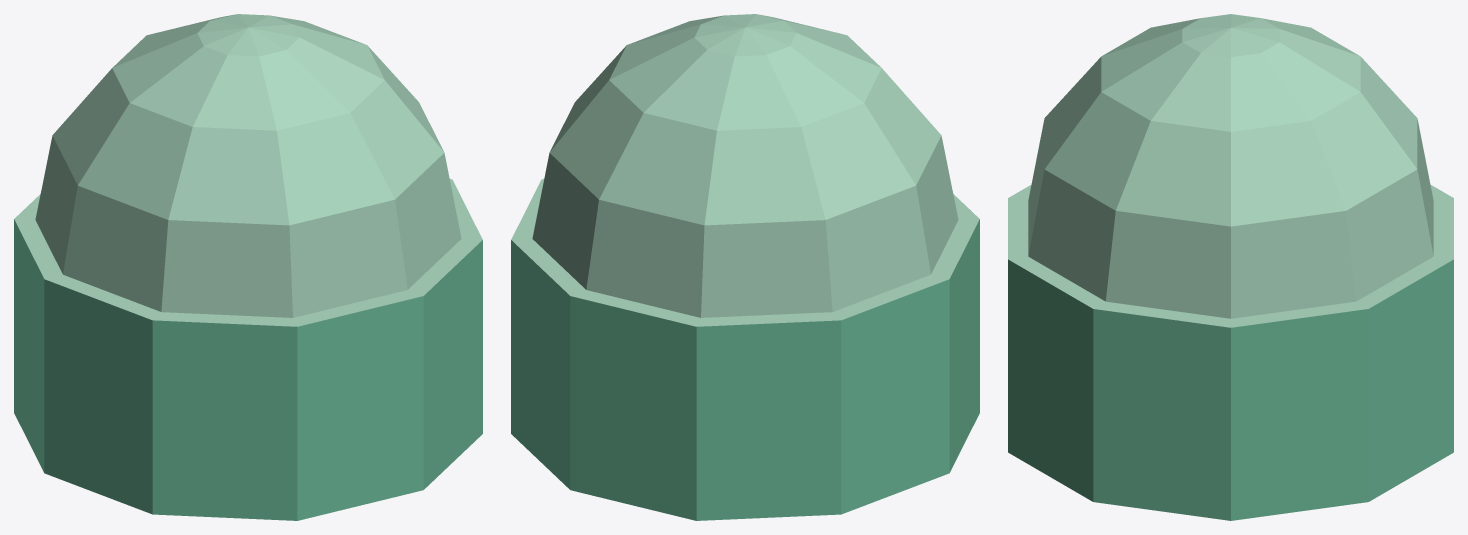
File: Building3.glb
3 renders of one model, left to right at view 1: azimuth 30°, elevation 25°; view 2: azimuth 150°, elevation 25°; view 3: azimuth 270°, elevation 25°, orthographic.
Parts seen in each view (by area): view 1: Building3; view 2: Building3; view 3: Building3.
Part boxes in pixels (bbox=[...]): Building3: bbox=[14, 14, 482, 520]; Building3: bbox=[511, 14, 979, 520]; Building3: bbox=[1008, 14, 1453, 520].
Bounding box in the file's own units: 11 × 10.2 × 10.46.
